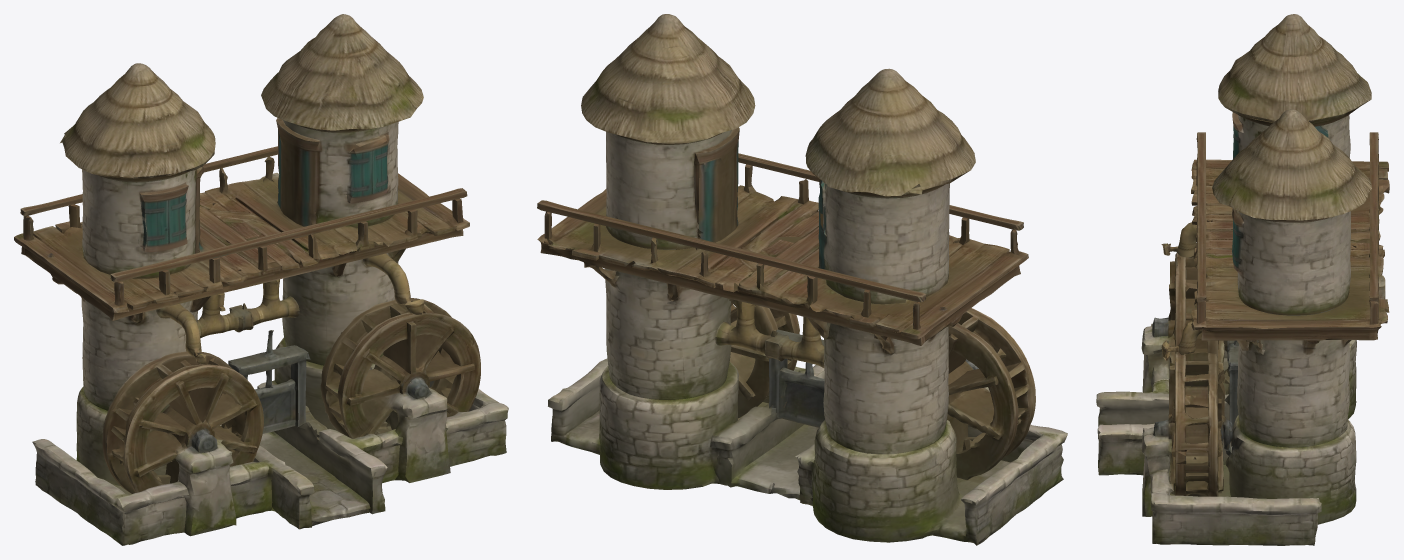
The model's file is tidewake_sluice_twin_pumps.glb.
The picture shows the model from 3 angles, left to right: view 1: azimuth 30°, elevation 25°; view 2: azimuth 150°, elevation 25°; view 3: azimuth 270°, elevation 25°; orthographic projection. The views are drawn at different scales.
Parts seen in each view (by area): view 1: Mesh_0; view 2: Mesh_0; view 3: Mesh_0.
Boxes of the visible parts, x1,y1,x2,y2 form: Mesh_0: (14, 14, 508, 545); Mesh_0: (537, 14, 1067, 545); Mesh_0: (1096, 14, 1389, 545).
Bounding box in the file's own units: 1.9 × 1.89 × 1.28.
1 material, 1 textured.
